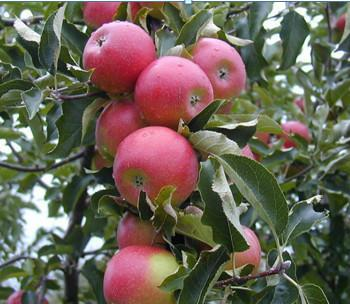apple: (86, 39, 248, 168), (103, 87, 209, 187), (84, 28, 192, 125), (128, 57, 228, 142), (113, 136, 200, 216), (81, 21, 157, 98), (103, 245, 180, 303), (190, 38, 247, 100), (94, 98, 144, 164), (223, 226, 261, 284), (115, 213, 154, 250), (81, 1, 126, 27)
